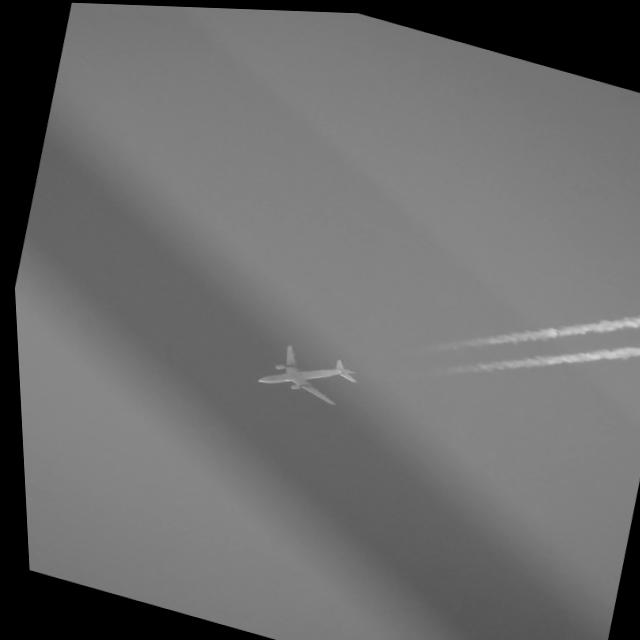aeroplane: (247, 332, 363, 412)
